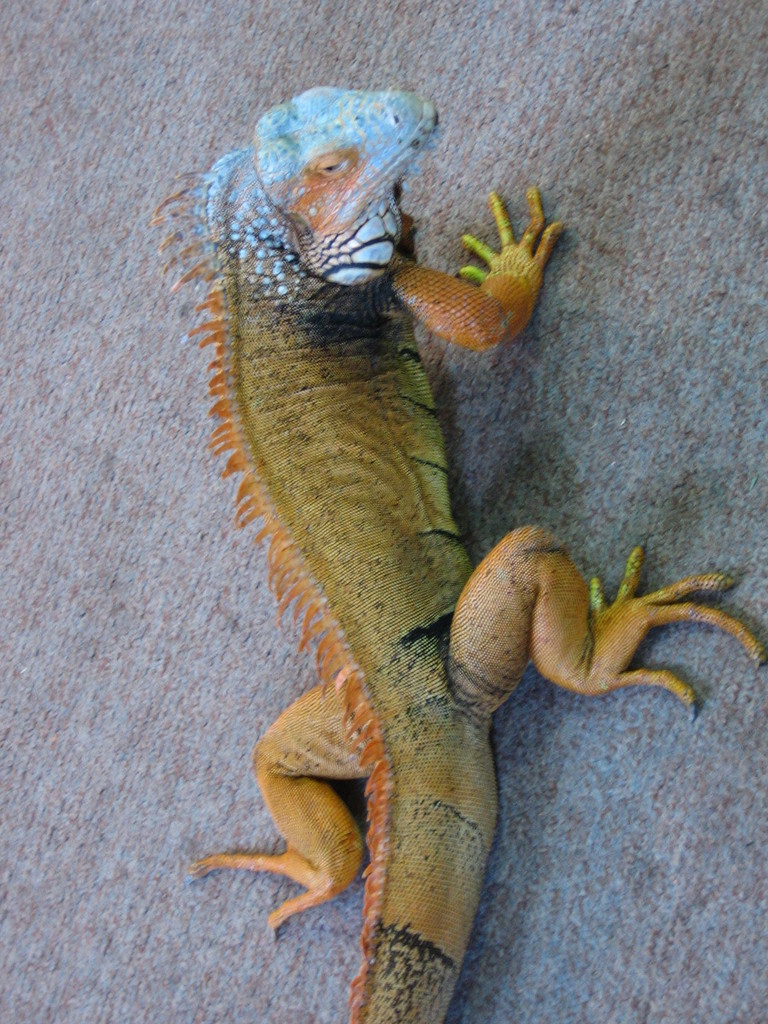face: (283, 114, 404, 292)
